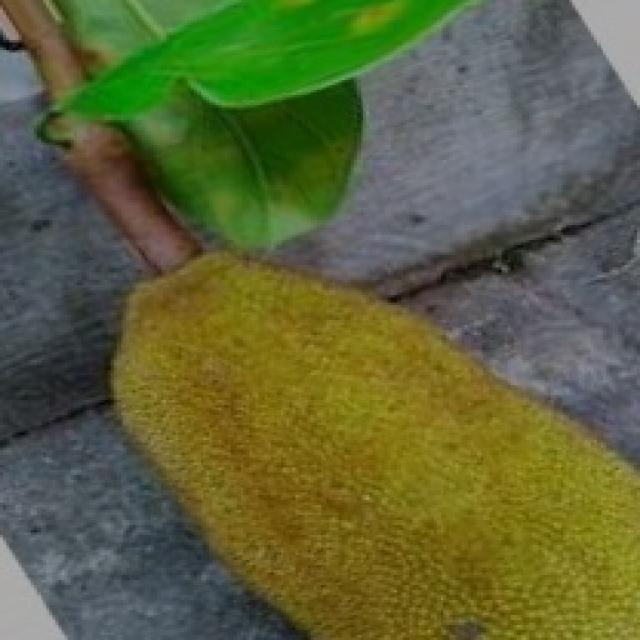Fruit: (59, 220, 462, 640), (274, 232, 640, 638)
